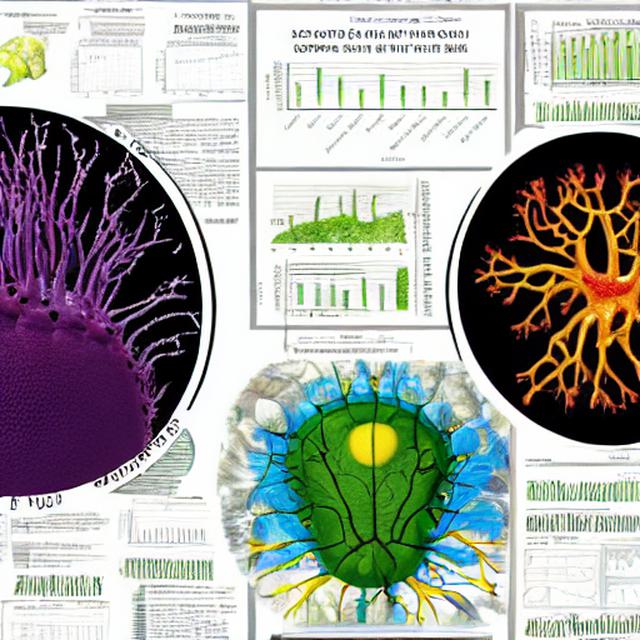Graph: (259, 25, 502, 166), (153, 39, 247, 99), (118, 500, 205, 551), (547, 92, 599, 125), (542, 581, 594, 613)
